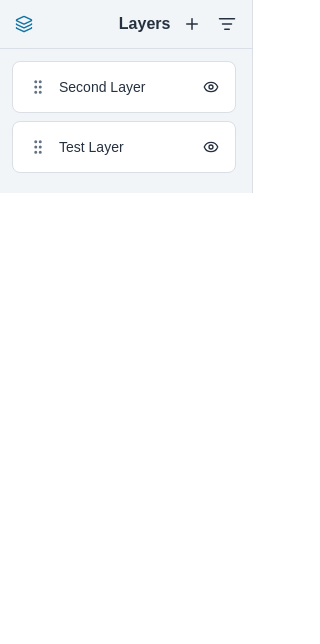
Test: Layer Settings Button - Integration Tests › handles multiple layers - clicking different layer cards opens respective settings
Click first layer
Click the button "Test Layer". click: (124, 147)
box: [12,121,236,173]
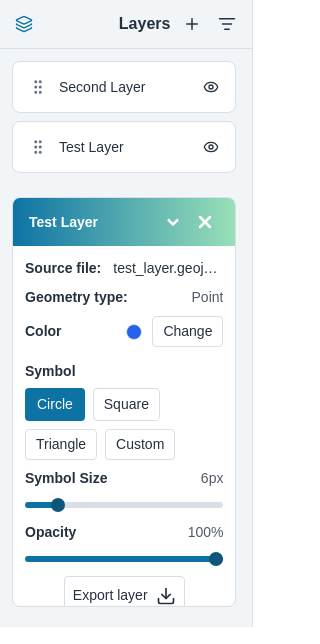
Now the heading "Test Layer" is shown, box [29,212,98,232]
Click second layer
Click the button "Second Layer". click: (124, 87)
box: [12,61,236,113]
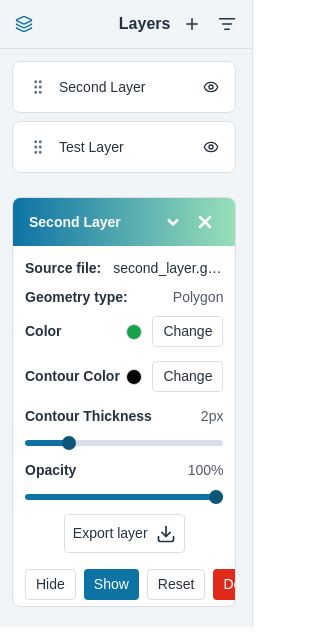
Now the heading "Second Layer" is shown, box [29,212,121,232]
Now the text "Polygon" is shown, box [173,289,223,305]
